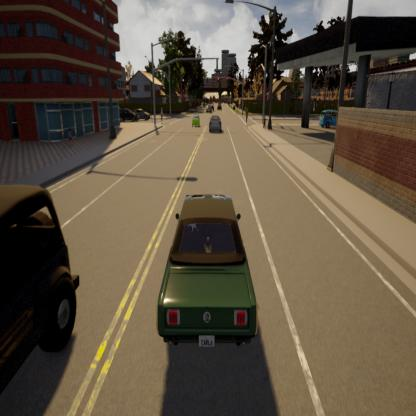Cars: (0, 155, 85, 416), (153, 172, 266, 367), (315, 104, 342, 134), (120, 102, 140, 130), (208, 108, 221, 140), (136, 100, 154, 122), (189, 110, 202, 138), (206, 95, 215, 118), (216, 99, 224, 112)
Pedestrian: (262, 109, 268, 138), (244, 106, 249, 132), (160, 104, 164, 123), (236, 100, 240, 114)
